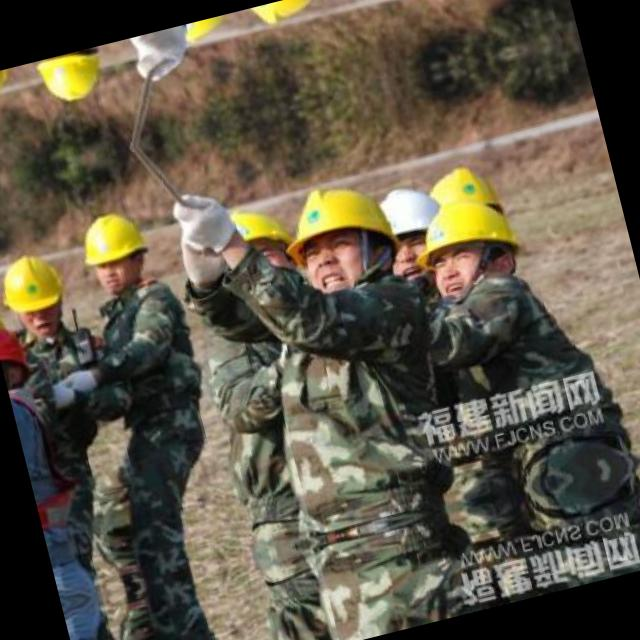helmet: (398, 170, 537, 317), (270, 170, 399, 306), (68, 198, 164, 306), (368, 176, 452, 270), (0, 242, 75, 347), (29, 44, 117, 115), (224, 200, 290, 278), (224, 0, 333, 39), (176, 13, 232, 45), (0, 67, 18, 115)
